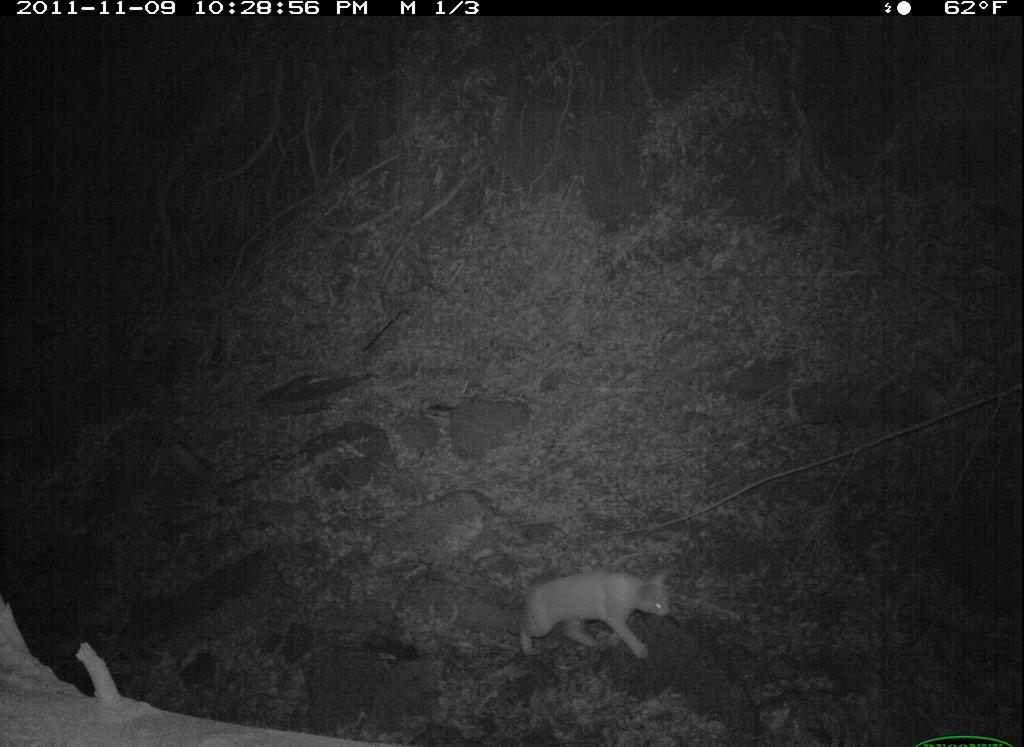cat: (501, 553, 689, 664)
